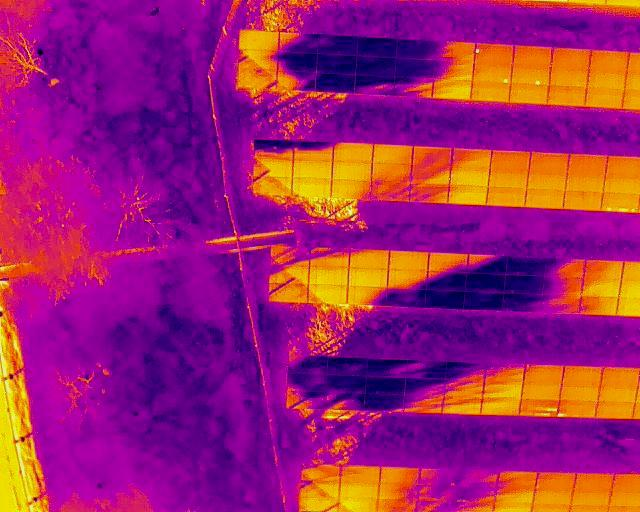Cell: (473, 62, 511, 83), (512, 64, 549, 85), (475, 43, 512, 62), (558, 401, 597, 418)
Cell-Multi: (602, 193, 640, 212), (519, 399, 557, 416)
No-Anomaly: (550, 67, 590, 87), (487, 188, 527, 208), (334, 141, 372, 162), (530, 151, 569, 171), (389, 251, 429, 270), (569, 155, 605, 176), (433, 80, 472, 99), (510, 85, 549, 104), (548, 86, 587, 105), (372, 144, 411, 163), (489, 169, 528, 188), (350, 249, 389, 268), (309, 266, 348, 285), (588, 68, 625, 88), (523, 366, 564, 384), (239, 32, 280, 50), (586, 89, 624, 108), (528, 172, 566, 191), (348, 269, 388, 287), (472, 84, 509, 103), (449, 186, 486, 205), (527, 190, 564, 209), (581, 297, 619, 315), (481, 398, 519, 416), (513, 46, 551, 64), (590, 50, 628, 68), (491, 150, 529, 168), (255, 159, 293, 177), (333, 162, 371, 180), (582, 278, 620, 296), (309, 285, 347, 303), (293, 180, 331, 198), (564, 367, 601, 385), (537, 472, 574, 490), (566, 175, 603, 193), (604, 174, 639, 193), (340, 465, 379, 482), (574, 473, 613, 490), (293, 162, 332, 179), (332, 181, 371, 198), (564, 192, 600, 210), (561, 385, 599, 402), (496, 486, 534, 503), (551, 49, 589, 66), (254, 178, 292, 195), (450, 168, 488, 185), (602, 368, 637, 386), (585, 260, 622, 277), (380, 466, 419, 482), (522, 384, 560, 400), (600, 387, 638, 403), (340, 483, 378, 499), (535, 490, 572, 506), (597, 403, 635, 418), (499, 470, 537, 485), (572, 490, 610, 505), (607, 156, 639, 173)
Shadowing: (271, 245, 310, 267), (372, 164, 411, 185), (238, 69, 278, 89), (435, 59, 473, 80), (452, 148, 490, 169), (294, 142, 333, 162), (411, 165, 450, 185), (288, 354, 326, 374), (327, 356, 367, 375), (317, 35, 357, 54), (395, 39, 435, 58), (277, 53, 317, 72), (412, 147, 452, 166), (544, 258, 584, 277), (428, 271, 466, 291), (327, 375, 366, 394), (406, 378, 445, 397), (357, 37, 396, 56), (254, 140, 293, 159), (311, 246, 350, 265), (388, 269, 427, 288), (270, 284, 309, 303), (388, 288, 426, 307), (357, 56, 395, 75), (371, 182, 409, 201), (468, 255, 506, 274), (347, 287, 387, 305), (367, 359, 407, 377), (446, 362, 486, 380), (279, 34, 319, 52), (239, 50, 279, 68), (317, 55, 357, 73), (287, 375, 326, 393), (366, 377, 405, 395), (301, 465, 340, 483), (436, 41, 475, 59), (396, 59, 435, 77), (316, 73, 355, 91), (356, 76, 395, 94), (430, 253, 469, 271), (271, 267, 310, 285), (407, 360, 445, 378), (278, 71, 316, 89), (409, 184, 447, 202), (506, 257, 544, 275), (467, 274, 505, 292), (505, 276, 543, 294), (484, 382, 523, 399), (544, 278, 583, 295), (426, 291, 464, 308), (465, 291, 503, 308), (486, 365, 524, 382), (445, 382, 483, 399), (395, 78, 433, 95), (287, 393, 327, 409), (443, 399, 483, 415), (420, 468, 460, 484), (379, 483, 419, 499), (365, 395, 404, 411), (404, 397, 443, 413), (300, 483, 339, 499), (420, 484, 459, 500), (327, 394, 365, 410), (504, 294, 543, 309), (543, 295, 581, 310), (460, 470, 498, 485), (459, 486, 496, 500)
